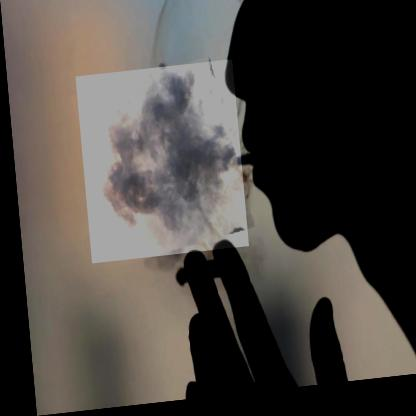smoke: (74, 64, 244, 265)
